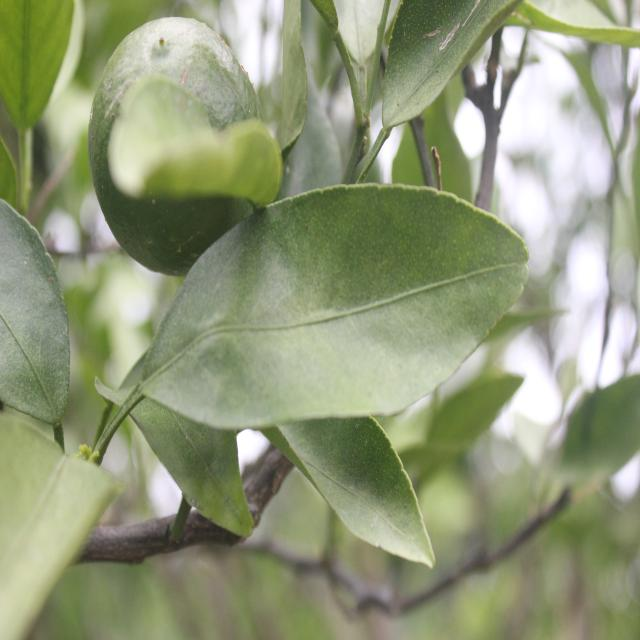blackspot: (216, 322, 418, 419), (385, 65, 446, 124)
